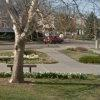Tree: (8, 0, 87, 39)
